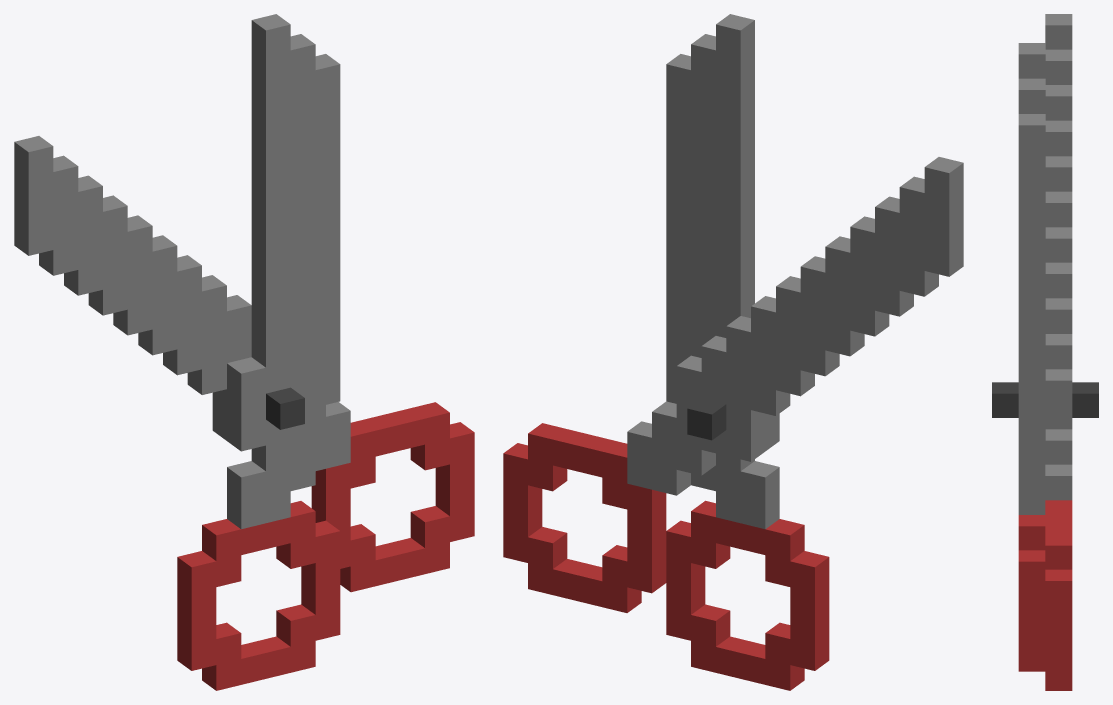
The model's file is collectables-1.obj.
3 renders of one model, left to right at view 1: azimuth 30°, elevation 25°; view 2: azimuth 150°, elevation 25°; view 3: azimuth 270°, elevation 25°, orthographic. The views are drawn at different scales.
Size of the model in its own units: 1.8 by 2.5 by 0.4.
Materials: 1 (1 with a texture image).
